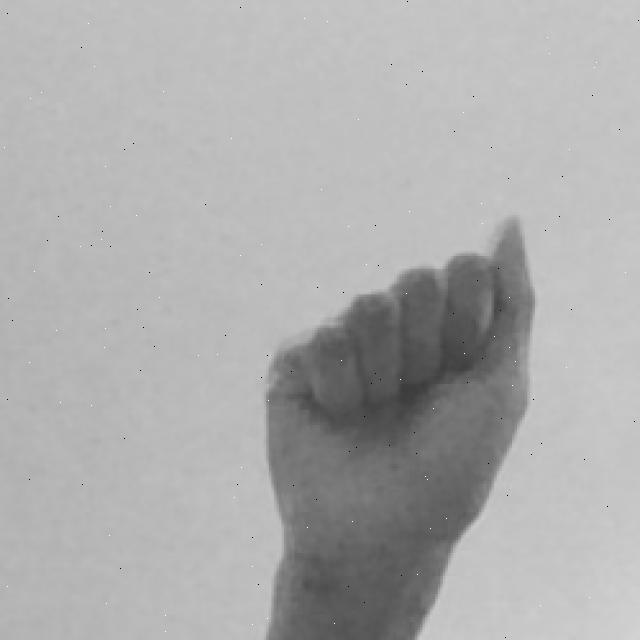A: (256, 212, 545, 640)
